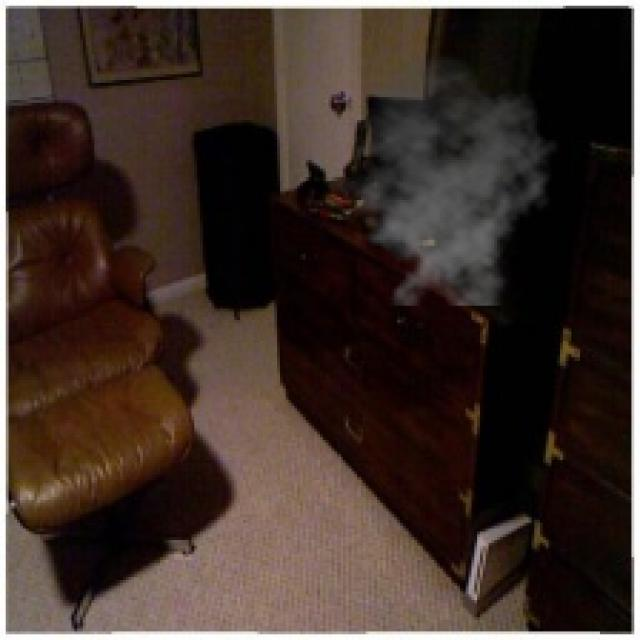smoke: (329, 54, 560, 306)
